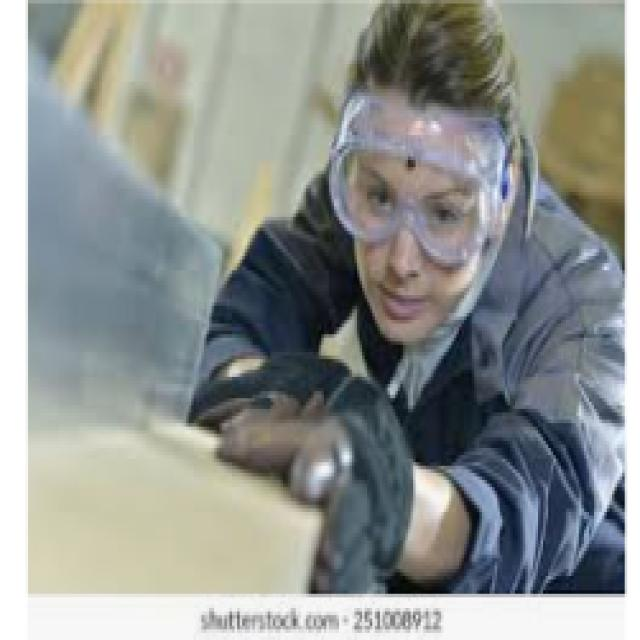glasses: (324, 94, 524, 273)
